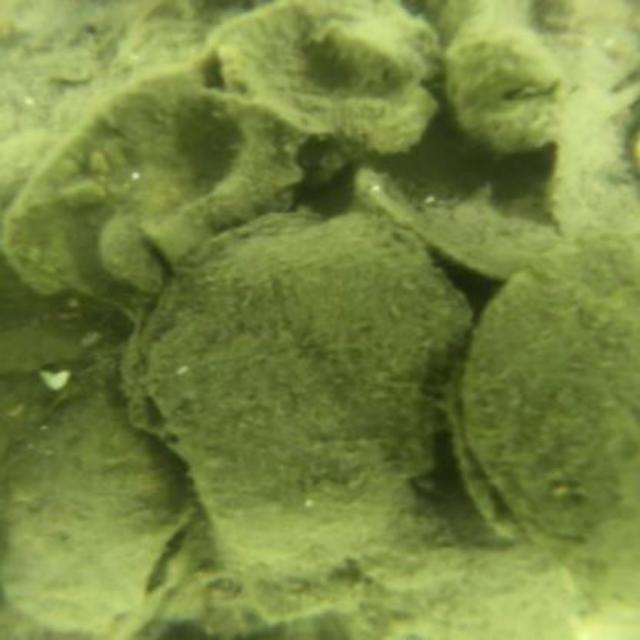Oyster-Closed: (144, 204, 476, 565), (0, 57, 324, 334), (462, 230, 638, 622), (0, 354, 194, 633), (198, 0, 444, 165), (97, 215, 180, 296)
